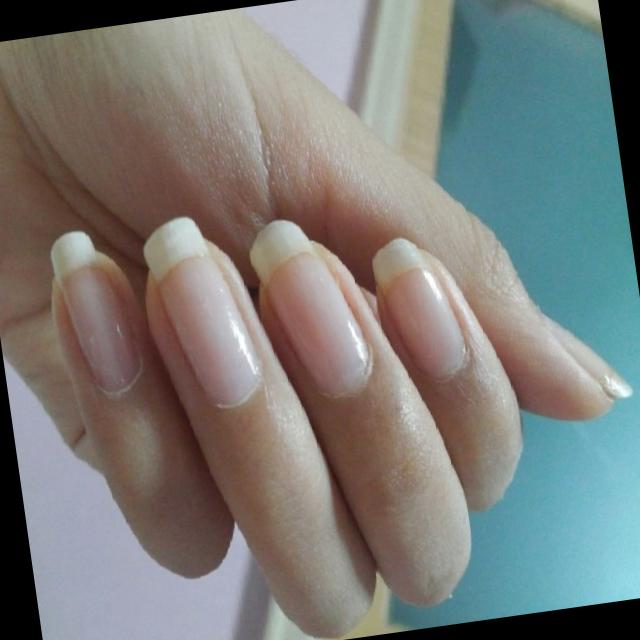Nail: (143, 217, 261, 408), (248, 220, 369, 397), (50, 231, 142, 395), (372, 238, 466, 380), (543, 315, 632, 399)
